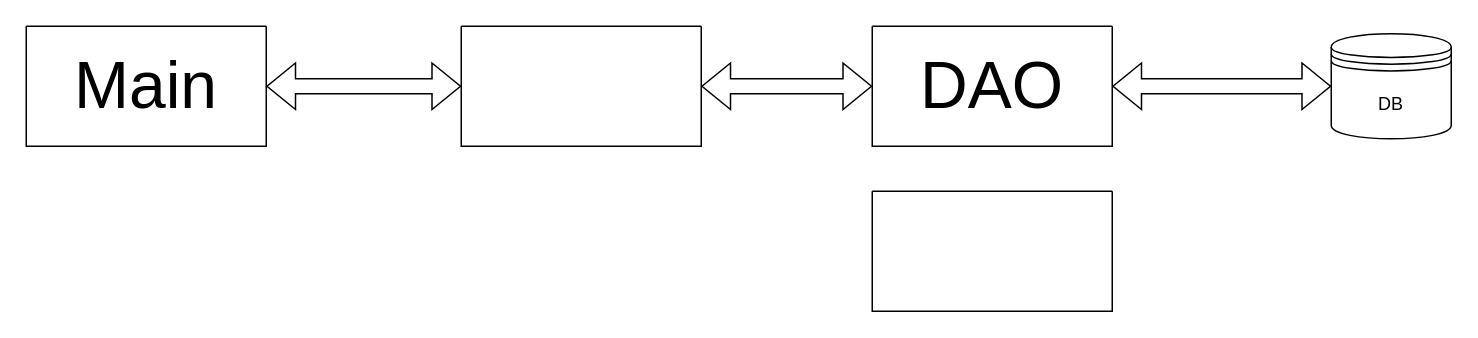
This 1478x338 diagram has some shape labels left out. The box of each missing label's shape, as (x1, y1, x2, y2) in pixels:
Screen: (460, 25, 701, 146)
VO: (871, 190, 1112, 311)
